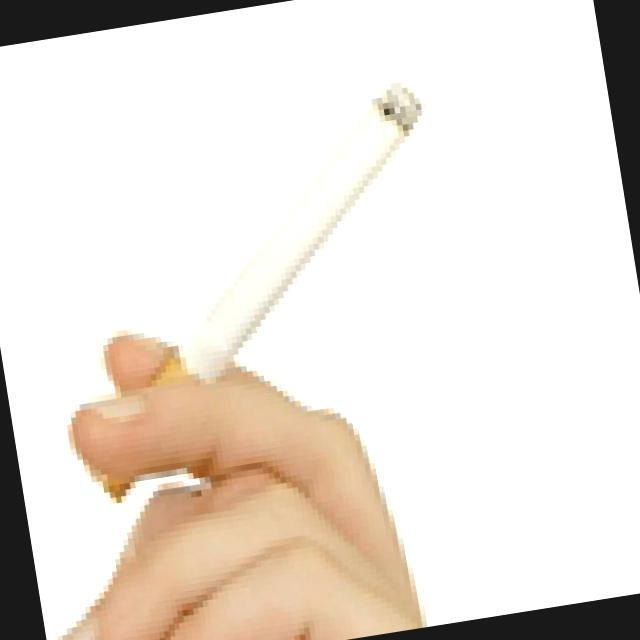smoke: (120, 66, 470, 392)
